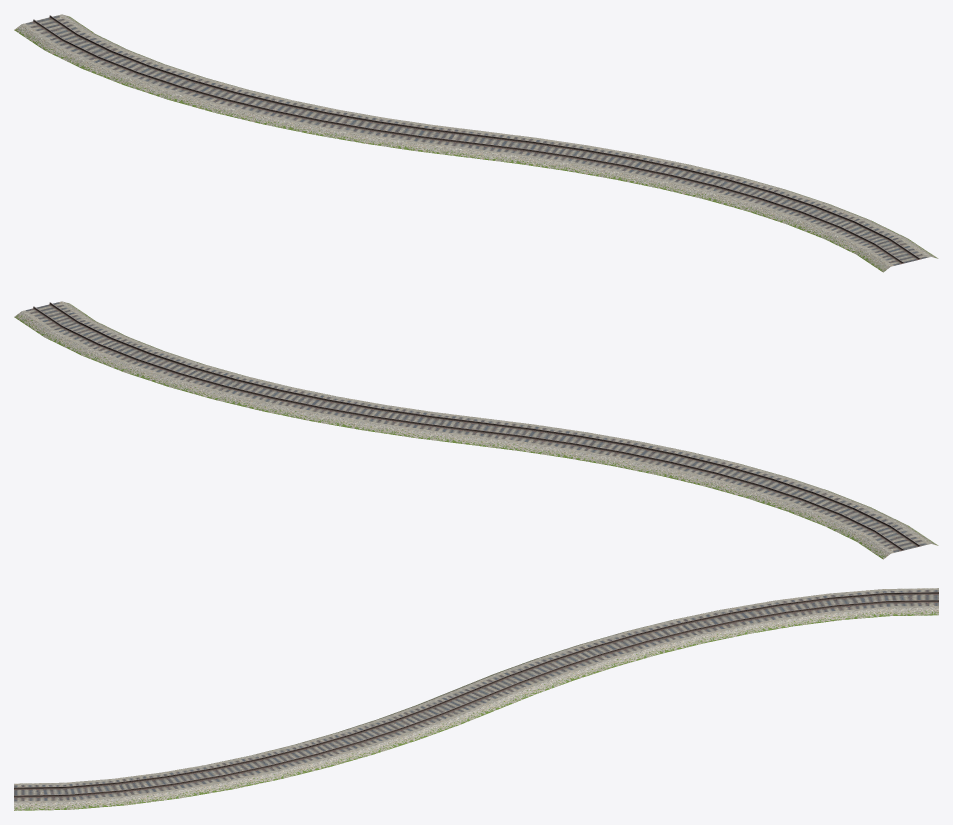
The model's file is Tr_FShear1.fbx.
The picture shows the model from 3 angles, top to bottom: view 1: azimuth 30°, elevation 25°; view 2: azimuth 210°, elevation 25°; view 3: azimuth 270°, elevation 25°; orthographic projection.
Parts seen in each view (by area): view 1: U3DMesh; view 2: U3DMesh; view 3: U3DMesh.
Part boxes in pixels (x1=…): U3DMesh: x1=14, y1=14, x2=938, y2=272; U3DMesh: x1=14, y1=301, x2=938, y2=559; U3DMesh: x1=14, y1=588, x2=938, y2=810.
Bounding box in the file's own units: 36.42 × 0.4496 × 64.
